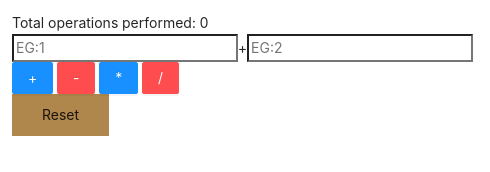
Test: - operation works
Type "10" into the number field with test id "app-input1".
click(125, 48); type("10")  # box [12, 34, 238, 62]
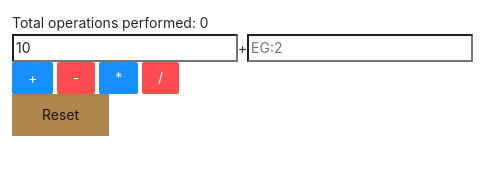
Type "5" into the number field with test id "app-input2".
click(360, 48); type("5")  # box [247, 34, 473, 62]
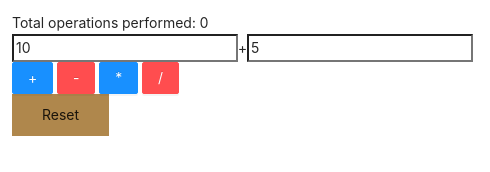
Click the button with test id "subtractButton".
click(76, 78)  # box [57, 62, 96, 94]
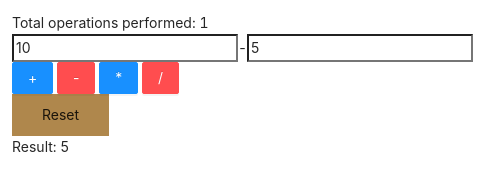
Check: the text with test id "result" reads "Result: 5", box [12, 138, 69, 155]
Check: the label with test id "selected-operator" reads "-", box [238, 39, 247, 56]
